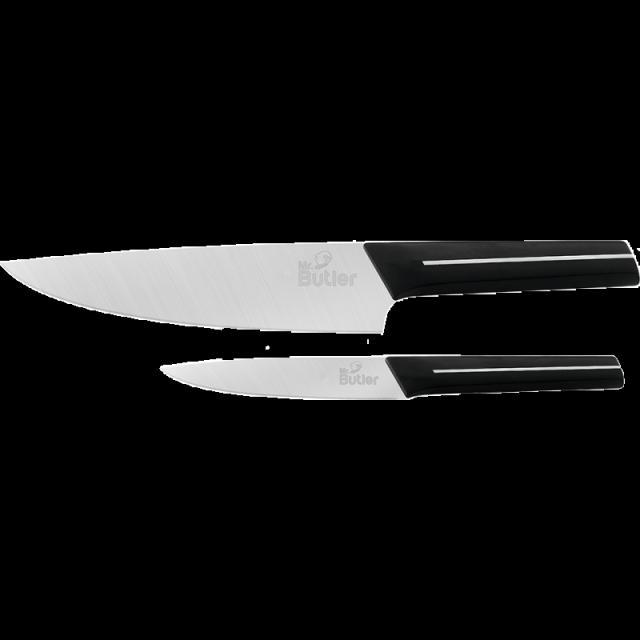knife: (2, 223, 640, 339), (156, 351, 631, 401)
